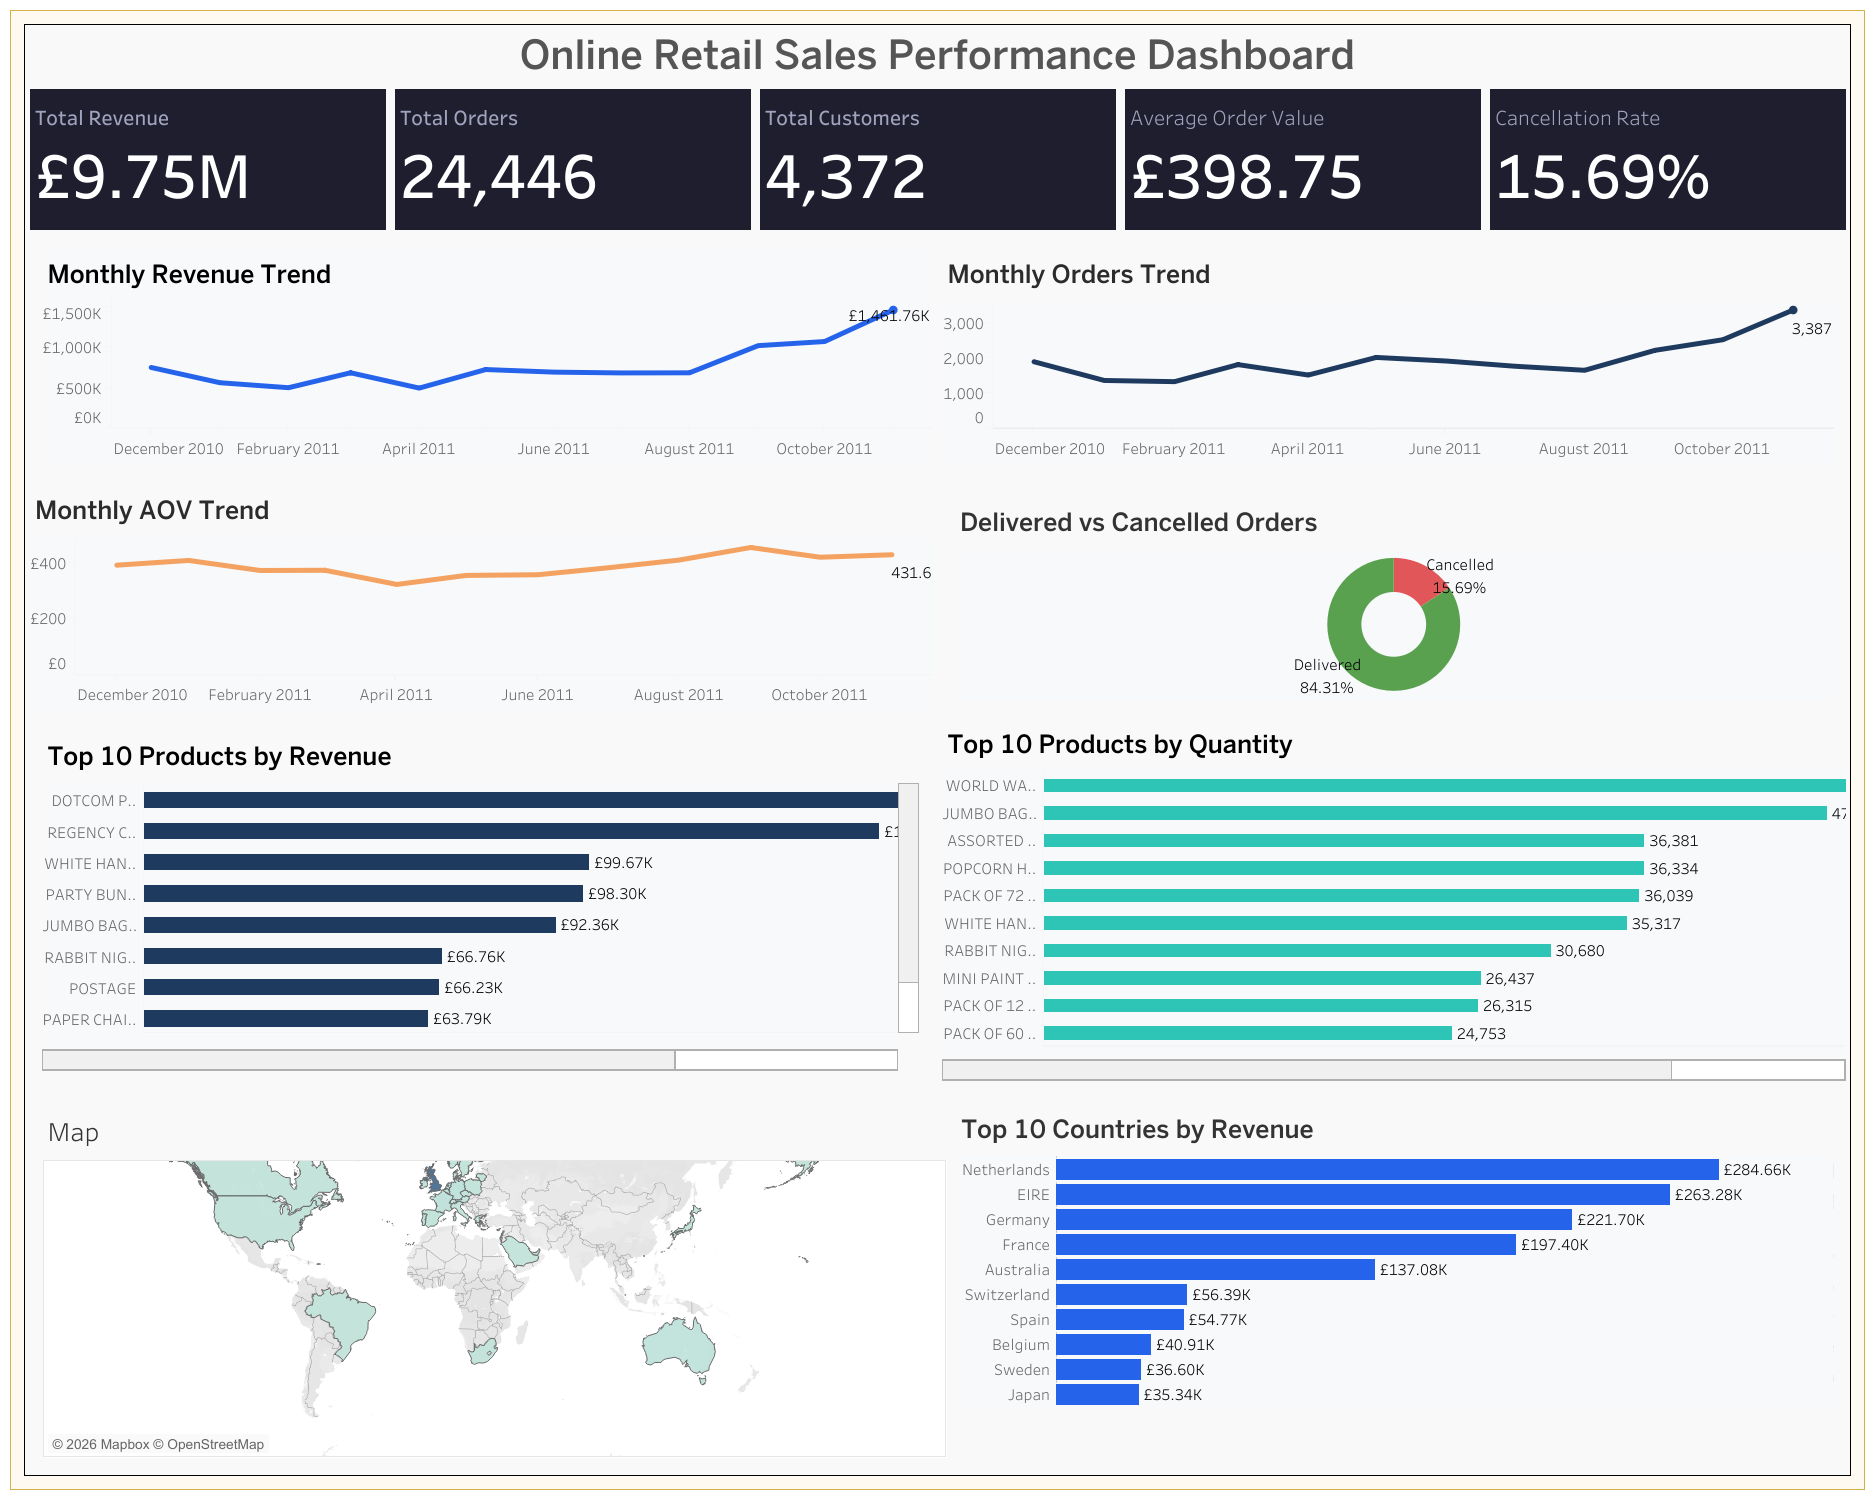

What the dashboard file says about the page in this screenshot:
{"tool":"tableau","page":{"name":"Dashboard 1","canvas":[1500,1200],"ordinal":0},"visuals":[{"type":"text","box":[20,20,1460,47]},{"type":"worksheet","title":"RevenueKPI","mark":"Text","box":[20,67,292,120]},{"type":"worksheet","title":"OrdersKPI","mark":"Automatic","box":[312,67,292,120]},{"type":"worksheet","title":"CustomersKPI","mark":"Automatic","box":[604,67,292,120]},{"type":"worksheet","title":"AovKPI","mark":"Automatic","box":[896,67,292,120]},{"type":"worksheet","title":"CancellationKPI","mark":"Automatic","box":[1188,67,292,120]},{"type":"worksheet","title":"MonthlyRevenue","mark":"Automatic","rows":["TotalRevenue"],"cols":["YearMonth"],"box":[30,197,720,179]},{"type":"worksheet","title":"MonthlyOrders","mark":"Automatic","rows":["Calculation_2756484506544660480"],"cols":["YearMonth"],"box":[750,197,720,179]},{"type":"worksheet","title":"MonthlyAOV","mark":"Automatic","rows":["Calculation_2756484506547437570"],"cols":["YearMonth"],"box":[20,386,730,187]},{"type":"worksheet","title":"OrderStatus","mark":"Pie","rows":["Calculation_2756484510772580358","Calculation_2756484510772580358"],"box":[760,396,710,167]},{"type":"worksheet","title":"TopProductsByQuantity","mark":"Automatic","rows":["Description"],"cols":["Quantity"],"box":[750,573,730,298]},{"type":"worksheet","title":"TopProductsByRevenue","mark":"Automatic","rows":["Description"],"cols":["TotalRevenue"],"box":[30,583,710,278]},{"type":"worksheet","title":"Map","mark":"Multipolygon","box":[30,881,721,289]},{"type":"worksheet","title":"TopCountriesByRevenue","mark":"Automatic","rows":["Country"],"cols":["TotalRevenue"],"box":[751,881,719,289]}]}

Visuals, with their boxes in screenshot pixels (x1, y1, x2, y2), scaled from the page's 1500x1200 canvas onto the 1874x1499 screenshot:
text: 25 25 1849 84
"RevenueKPI" worksheet (Text marks): 25 84 390 234
"OrdersKPI" worksheet: 390 84 755 234
"CustomersKPI" worksheet: 755 84 1119 234
"AovKPI" worksheet: 1119 84 1484 234
"CancellationKPI" worksheet: 1484 84 1849 234
"MonthlyRevenue" worksheet: 37 246 937 470
"MonthlyOrders" worksheet: 937 246 1837 470
"MonthlyAOV" worksheet: 25 482 937 716
"OrderStatus" worksheet (Pie marks): 949 495 1837 703
"TopProductsByQuantity" worksheet: 937 716 1849 1088
"TopProductsByRevenue" worksheet: 37 728 925 1076
"Map" worksheet (Multipolygon marks): 37 1101 938 1462
"TopCountriesByRevenue" worksheet: 938 1101 1837 1462
